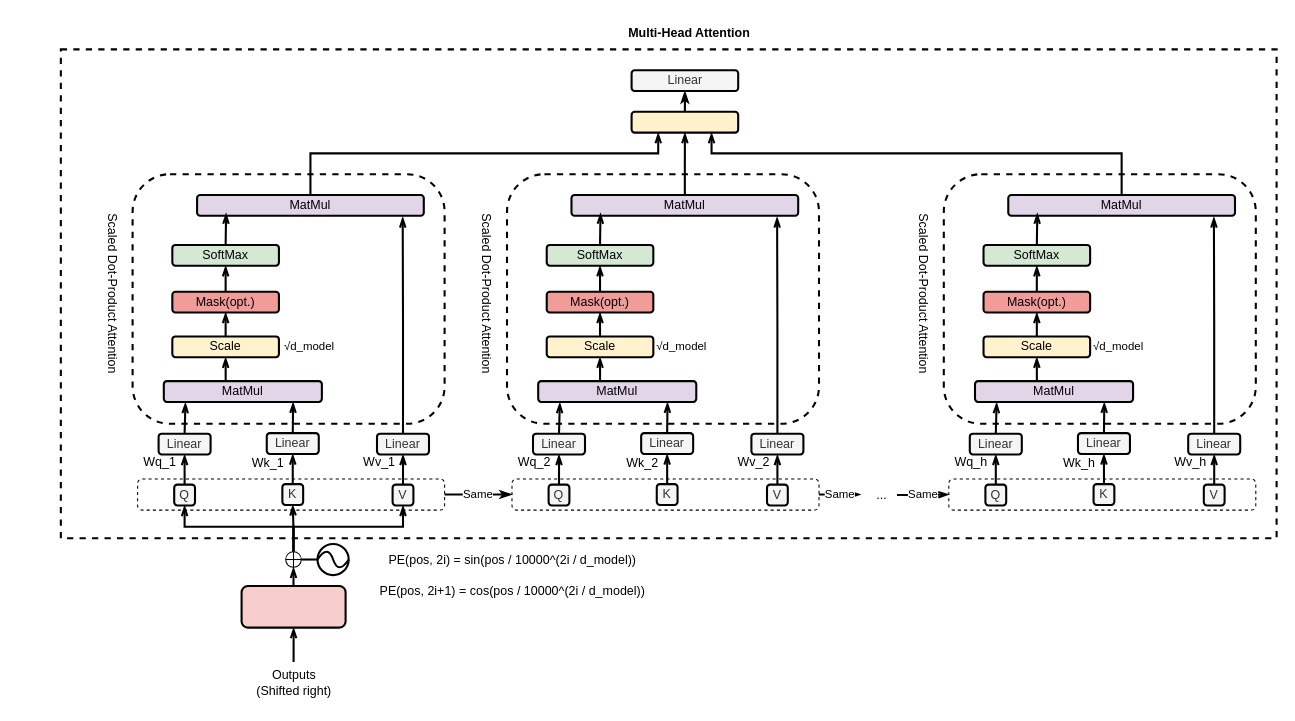
Image size: 1295x721. Some labels were removed from this diagram. The shapes that lost their labels are listed below. From the top down, each one's centre as x and y in pixels, then its label:
(684,121): Concat
(293,606): Output Embedding
